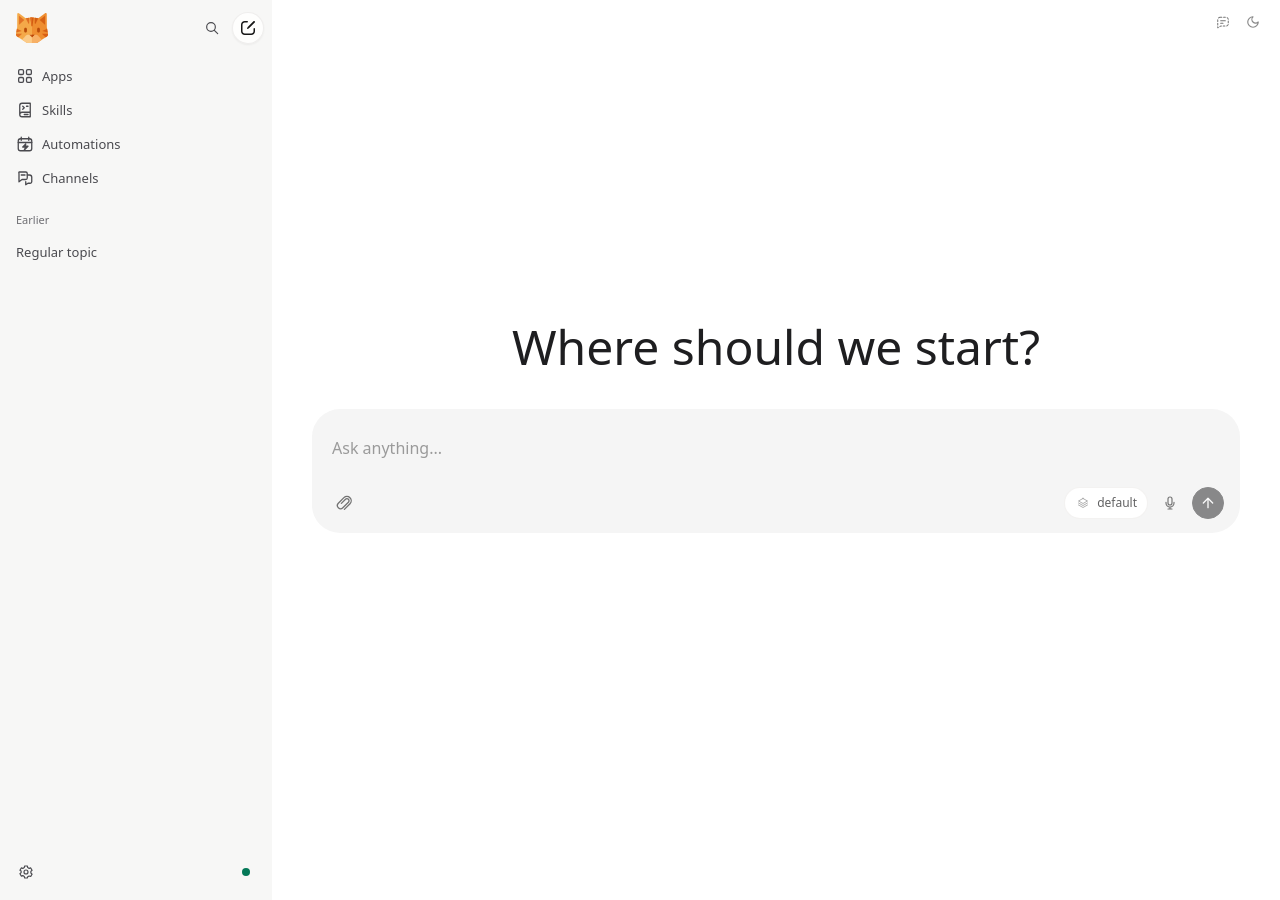
Test: temporary chat navigation › preserves streamed output when the turn finishes while away
Step 1. Click the button named "Temporary chat" → coordinates (1223, 22), box 1209,8 -> 1237,36
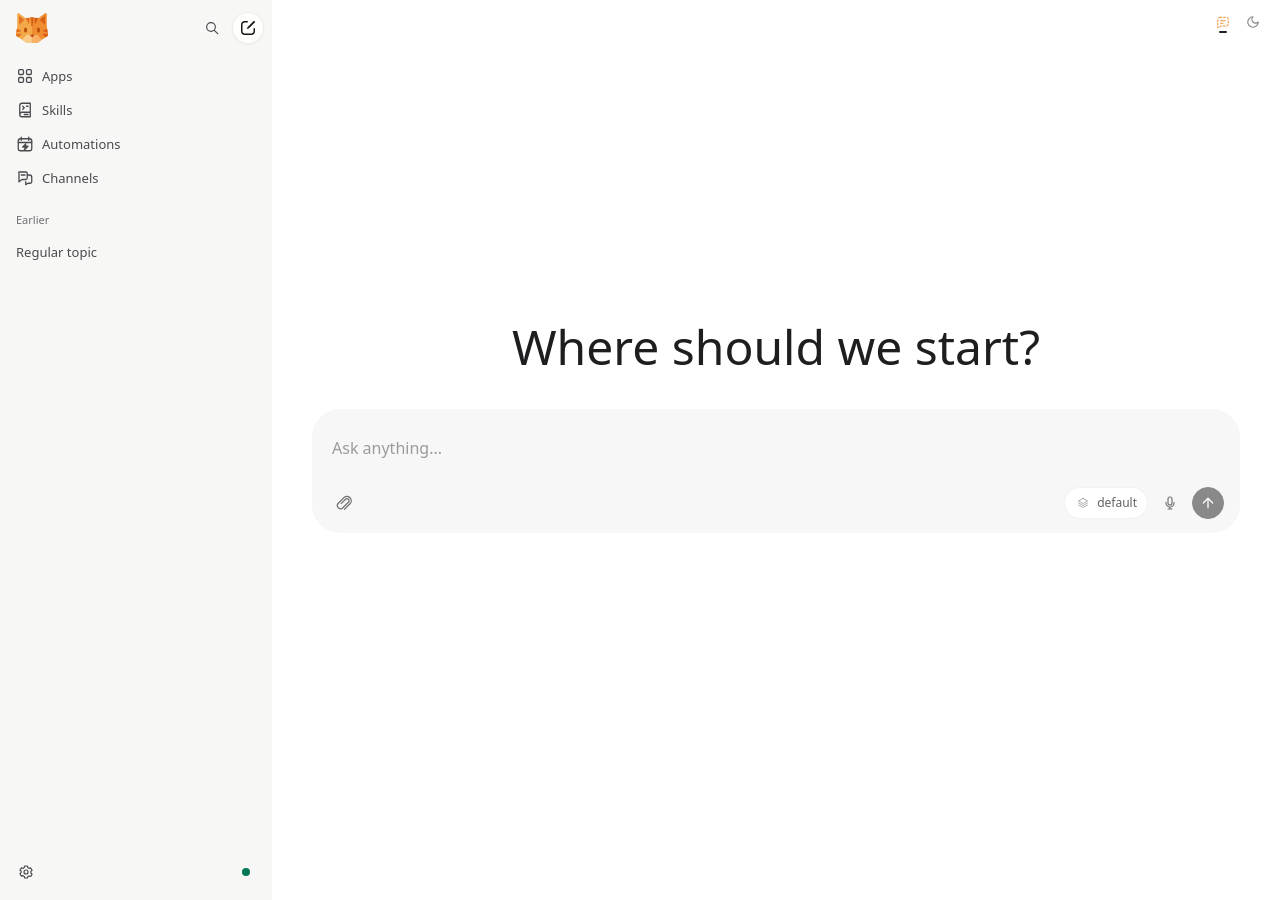
Step 2. Type "Count from one to three" into the text box named "Message input" → coordinates (776, 448), box 312,409 -> 1240,487
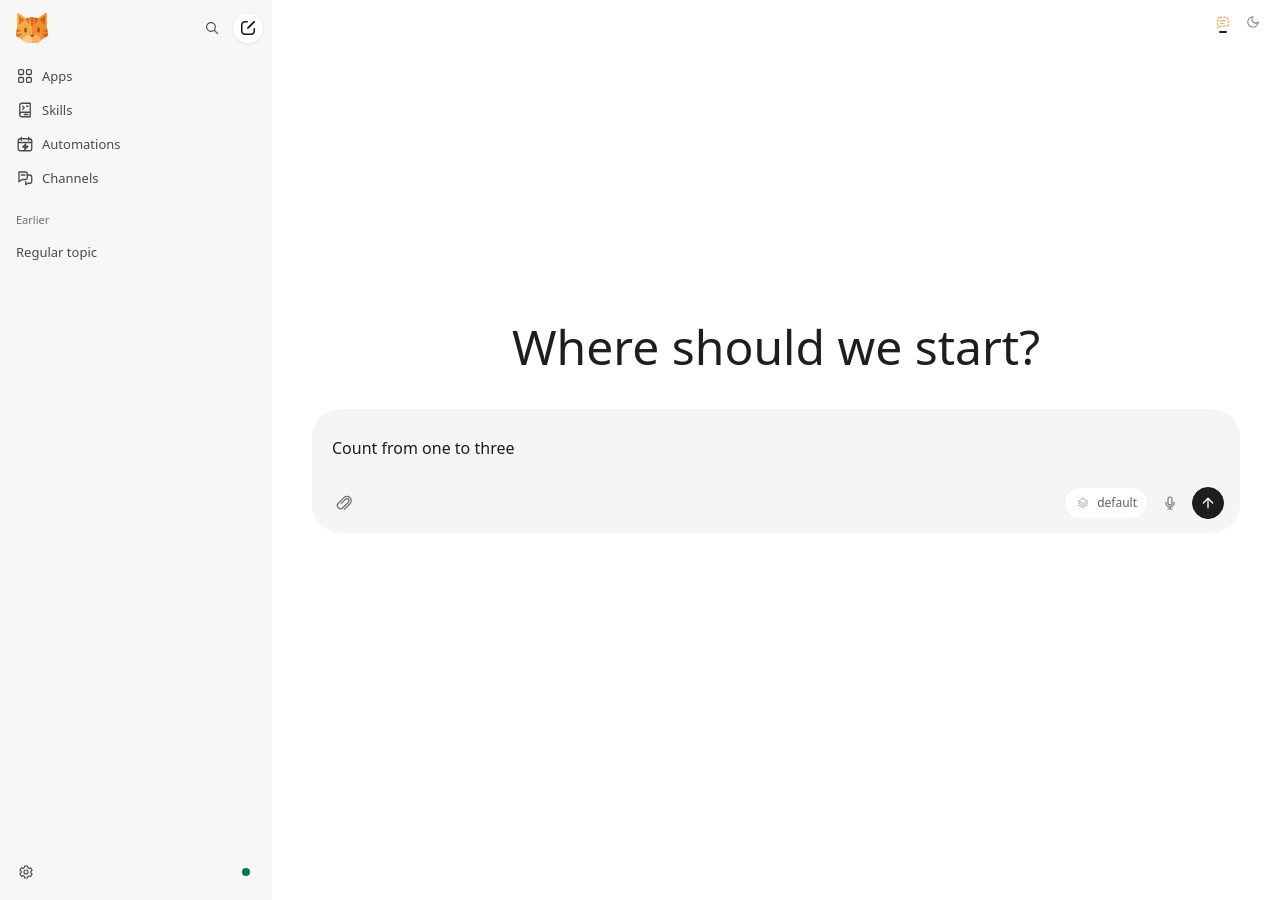
Step 3. Click the button named "Send message" → coordinates (1208, 503), box 1192,487 -> 1224,519
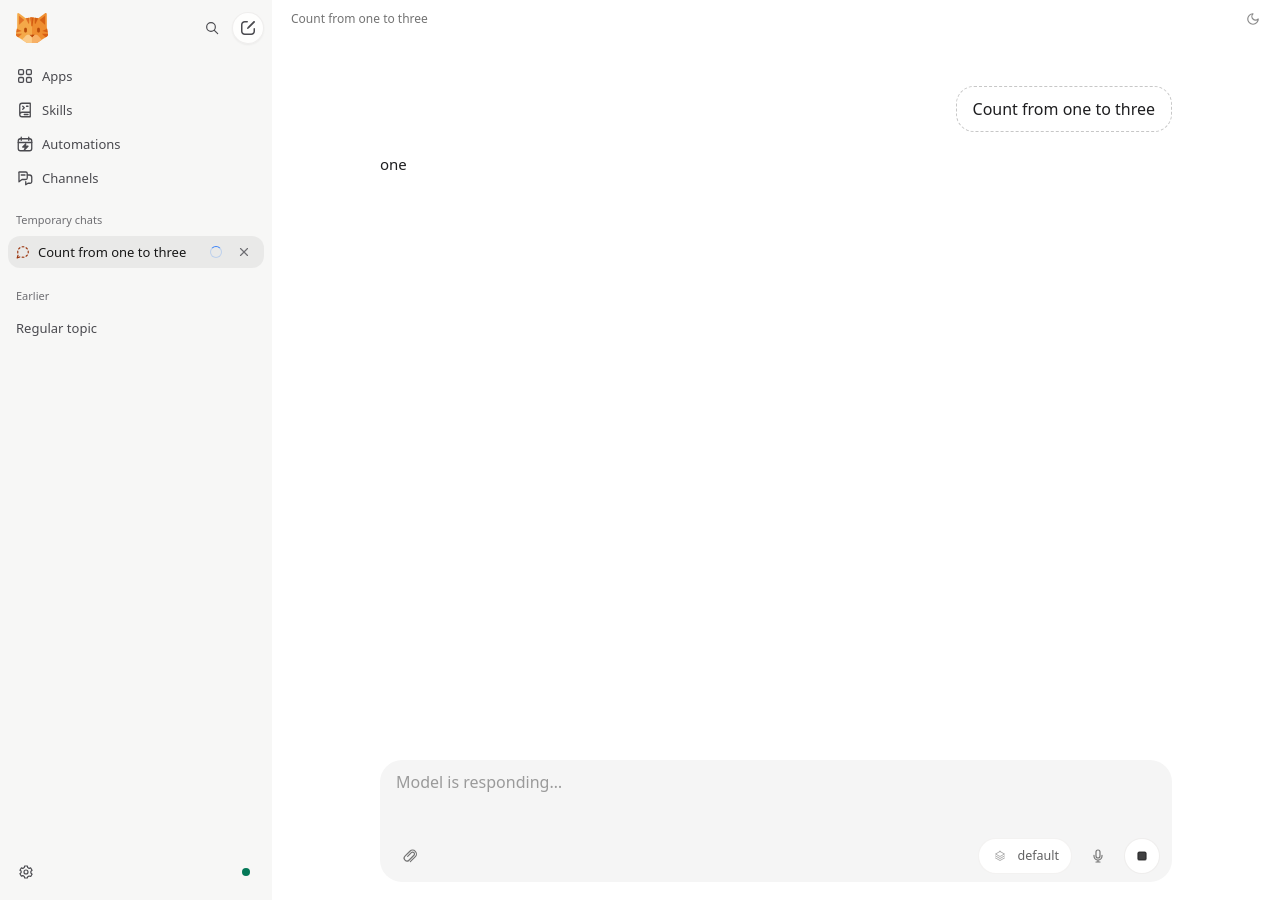
Check: the 2nd text "Count from one to three" is shown, box 956,86 -> 1172,132
Check: the text "one" is shown, box 380,154 -> 407,174
Step 4. Click the button "Regular topic" → coordinates (112, 328), box 16,312 -> 208,344
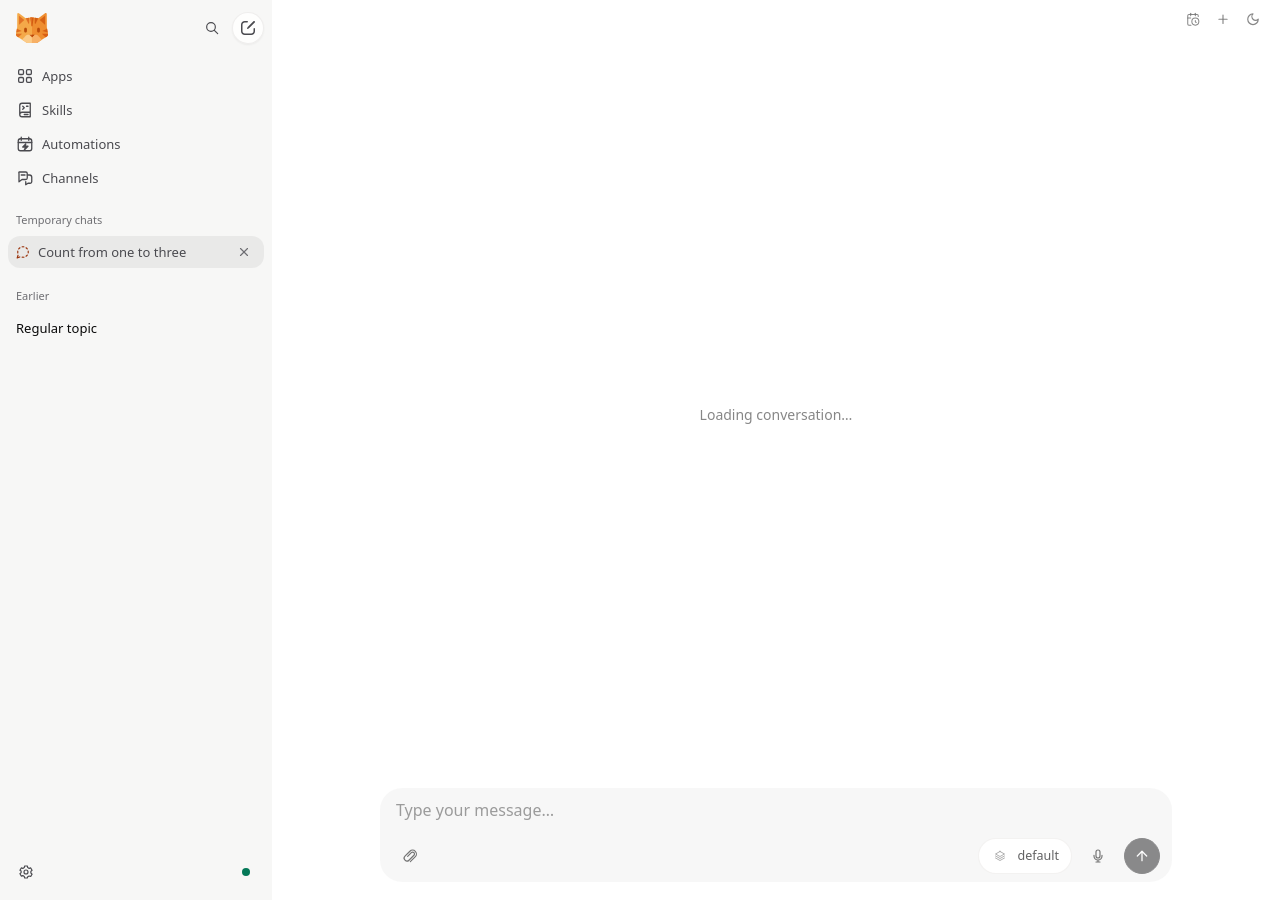
Step 5. Click the button "Count from one to three" → coordinates (108, 252), box 16,236 -> 200,268
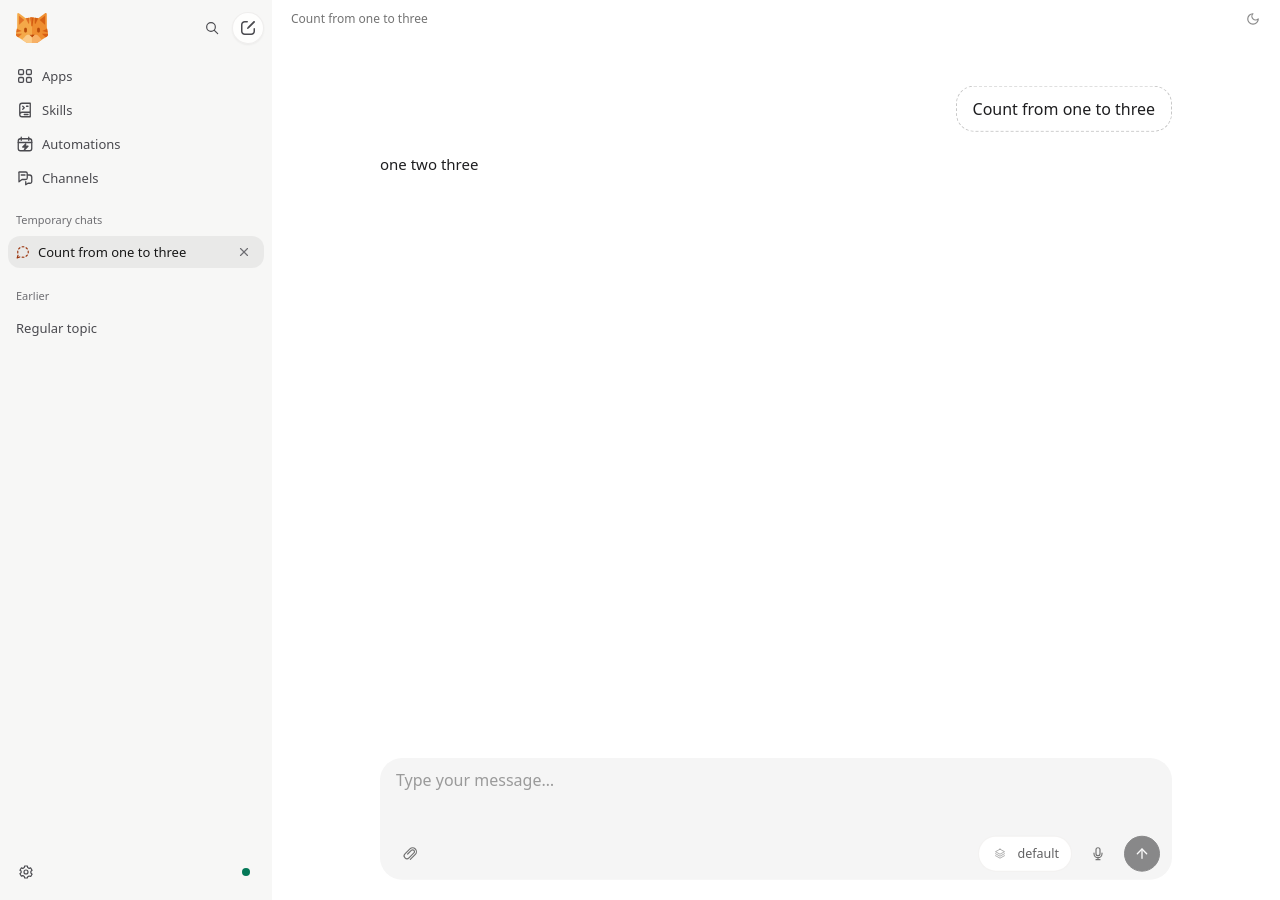
Check: the text "one two three" is shown once, box 380,154 -> 478,174
Check: the text "Count from one to three" is shown once, box 956,86 -> 1172,132
